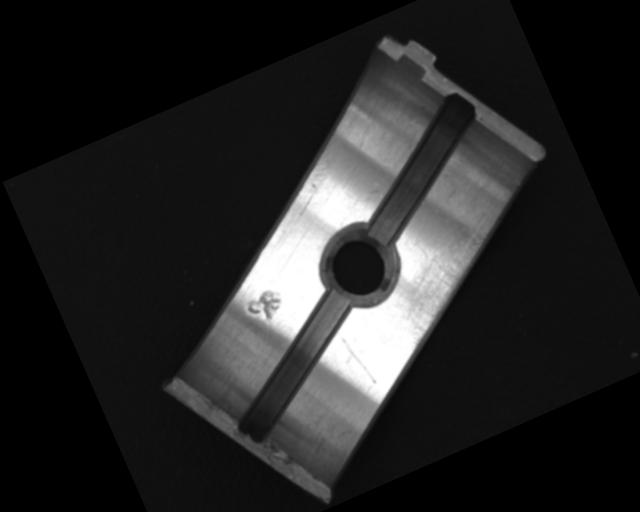bruise: (241, 285, 291, 332)
gap: (329, 88, 511, 251), (204, 287, 386, 447)
hole: (305, 210, 411, 317)
nick: (338, 329, 377, 390)
scratch: (371, 214, 519, 353)
